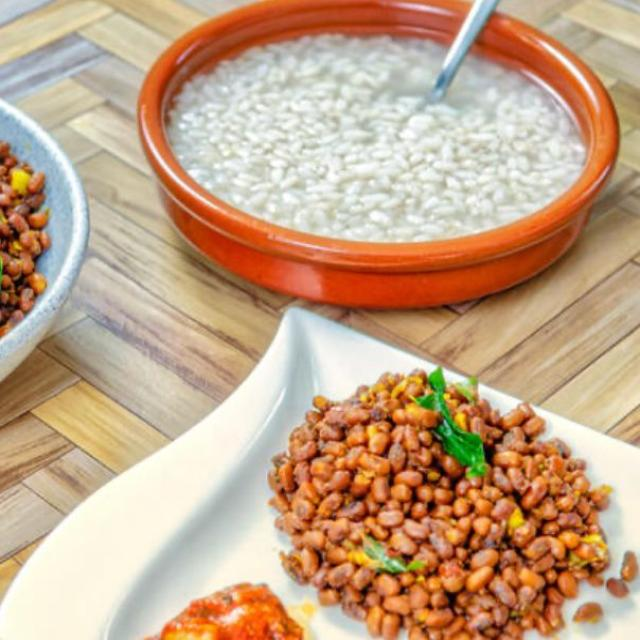PORRIDGE: (167, 30, 589, 242)
SUNDAL: (267, 372, 614, 638)
